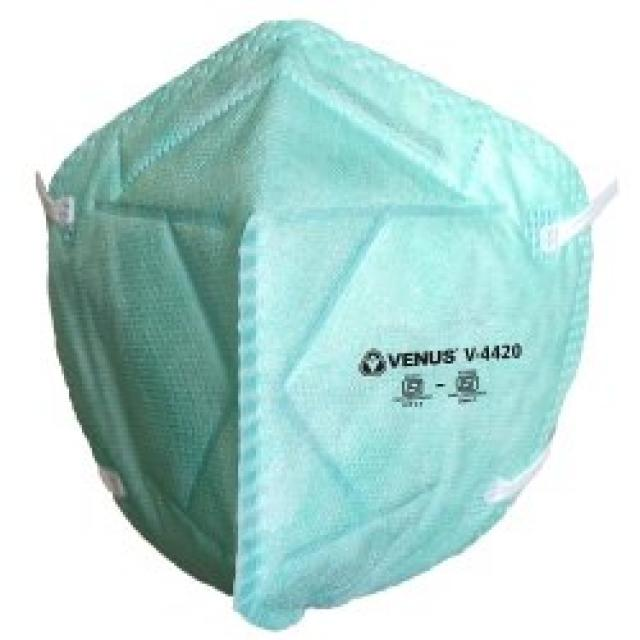non-organic waste: (38, 21, 622, 622)
